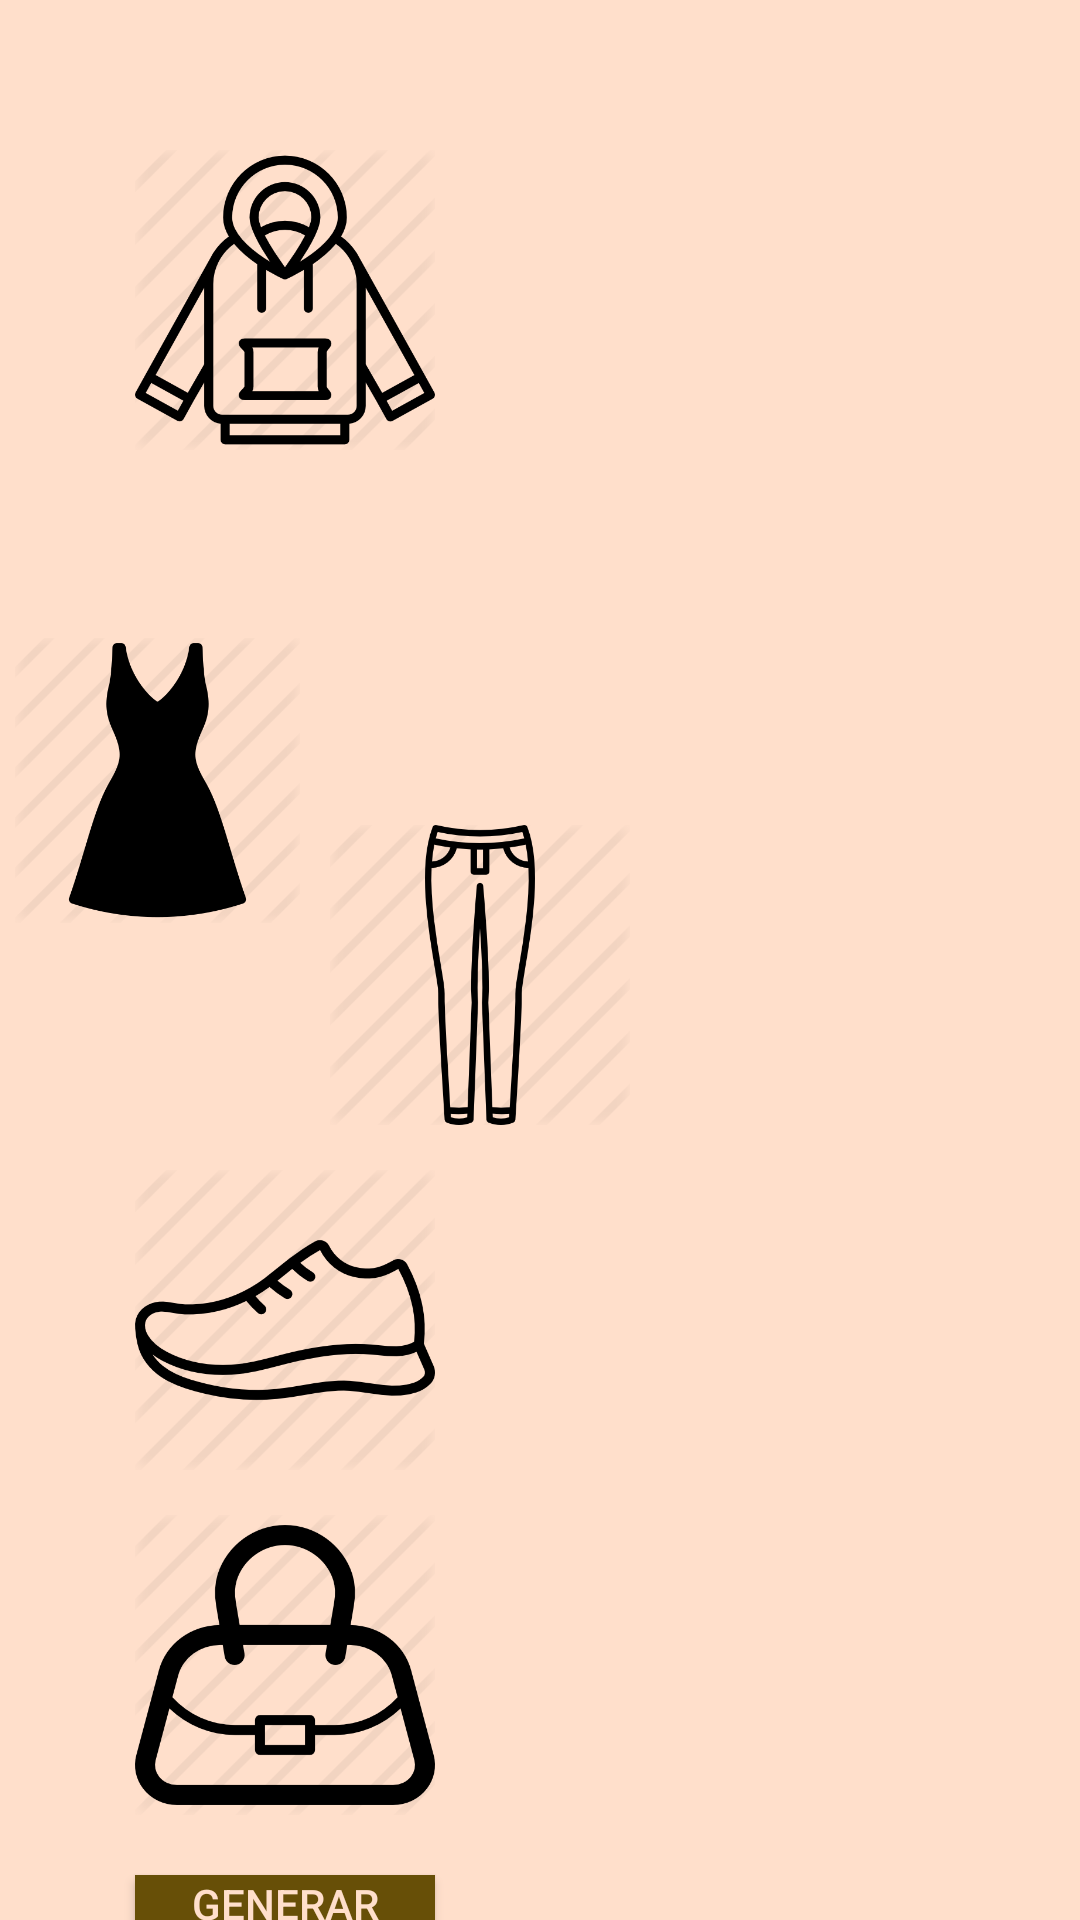

Named icons in this screenshot (1080px x 1920px) and their centers, (x,y):
bolso: (285,1665)
pantalon: (480,975)
sudadera: (285,300)
vestido: (157,780)
zapato: (285,1320)
